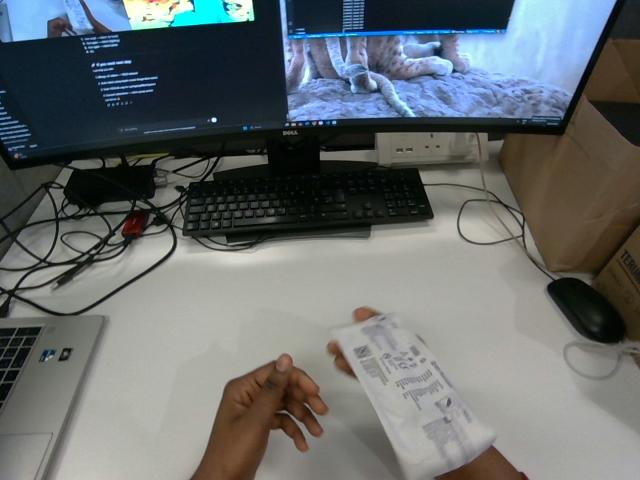syringe: (331, 314, 495, 479)
